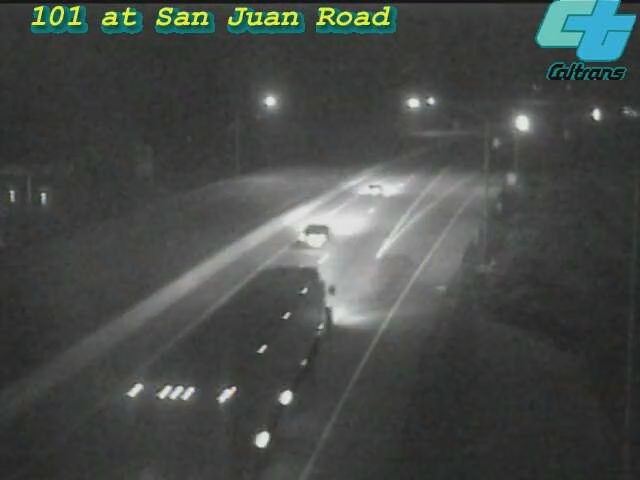vehicle: (211, 287, 321, 397), (337, 148, 417, 228), (284, 190, 364, 270), (498, 97, 548, 147), (572, 89, 622, 139)
